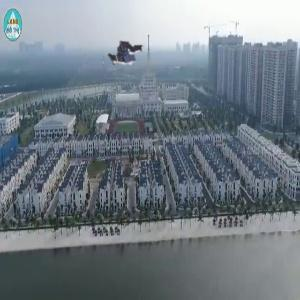drone: (101, 32, 152, 83)
